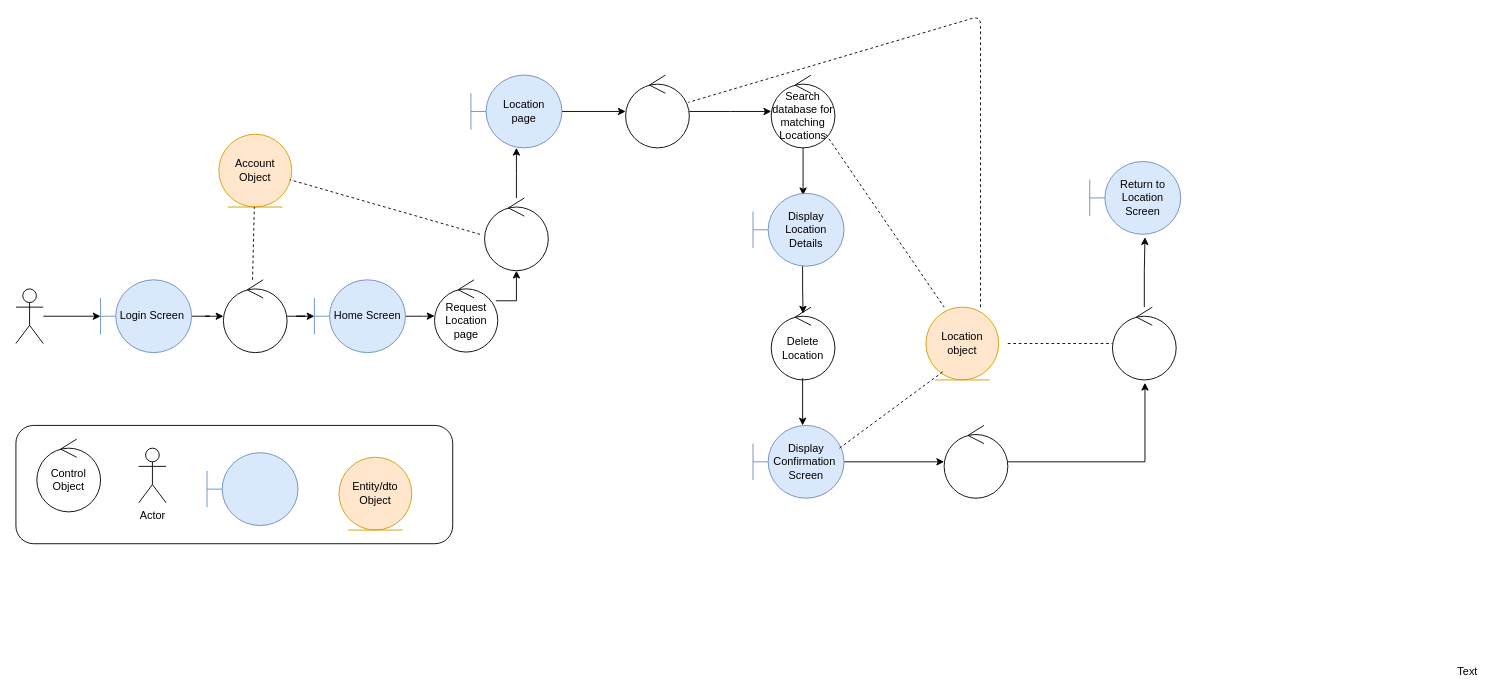
The diagram is 1502 pixels wide and 697 high, and some of its shapes have lost their labels. The shapes that lost their labels are listed below. From the top down, each one's box as (x1, y1, x2, y2) in pixels, then its label:
(625, 74, 689, 148): Validate Imput
(484, 197, 548, 271): Check user permissions
(15, 288, 43, 344): User
(222, 279, 287, 353): Verifies Login Details
(1112, 306, 1176, 380): Save To Database
(943, 425, 1008, 498): Save changes to Location()
(206, 452, 298, 526): Boundary Object
